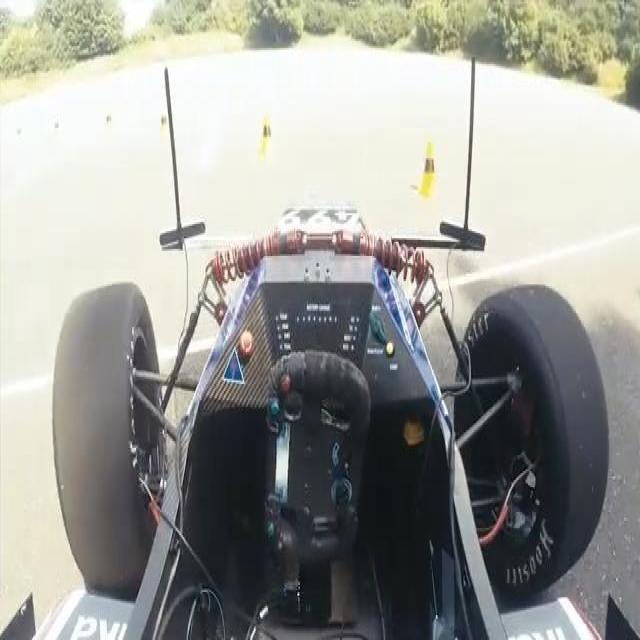yellow_cone: (411, 130, 442, 206), (255, 112, 280, 165)
